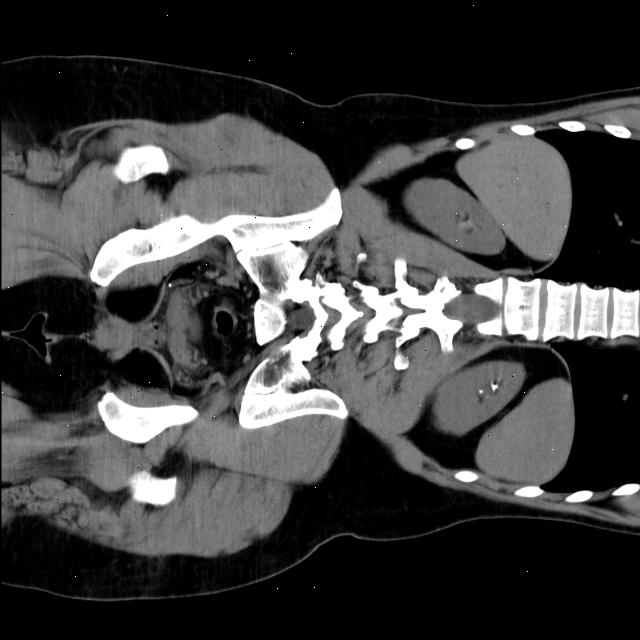kidneystone: (490, 380, 499, 395)
